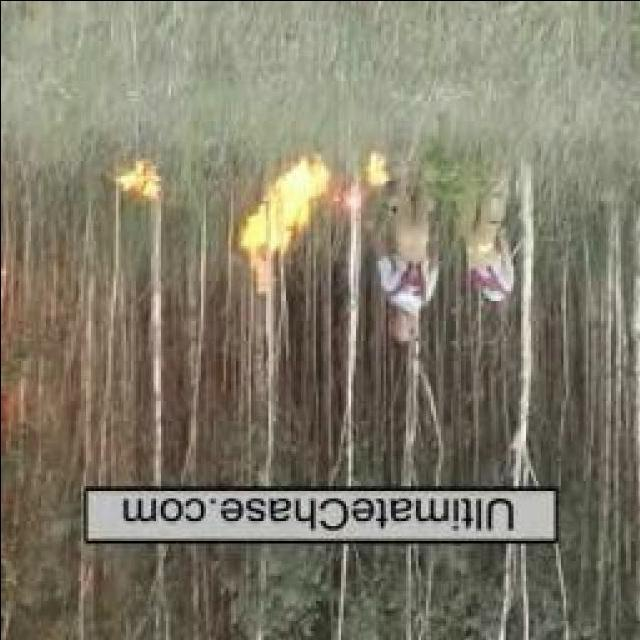Fire: (234, 156, 333, 272), (340, 156, 386, 210), (114, 160, 160, 200)
